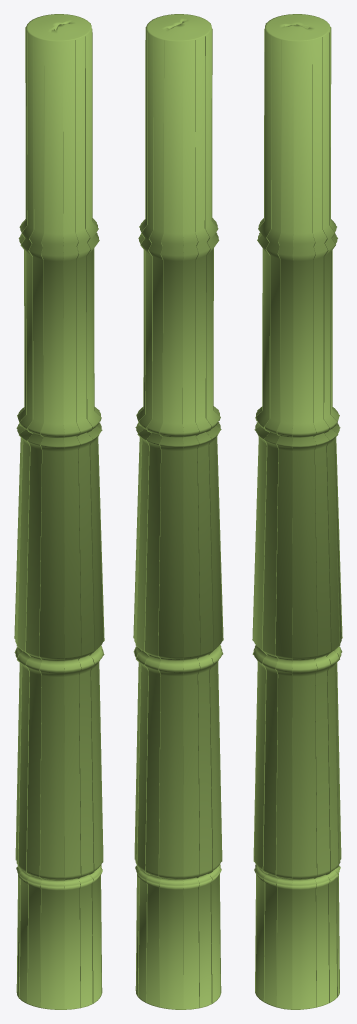
File: LBSR_Bamboo.fbx
The picture shows the model from 3 angles, left to right: view 1: azimuth 30°, elevation 25°; view 2: azimuth 210°, elevation 25°; view 3: azimuth 330°, elevation 25°; orthographic projection.
Visible parts, largest first — view 1: bamboo stalk; view 2: bamboo stalk; view 3: bamboo stalk.
Part boxes in pixels (<box>): bamboo stalk: <box>14,14,104,1009</box>; bamboo stalk: <box>133,14,223,1009</box>; bamboo stalk: <box>252,14,342,1009</box>.
Bounding box in the file's own units: 0.5 × 6 × 0.5.
